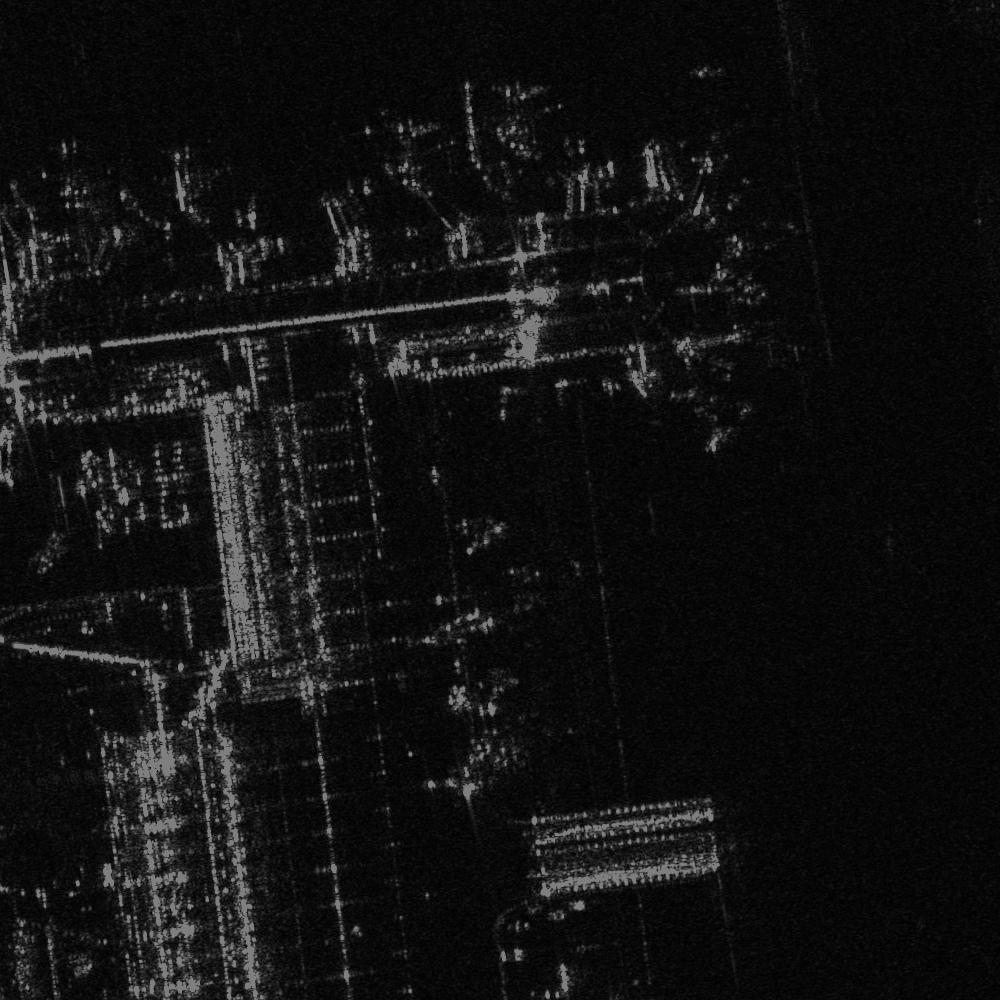A220: (40, 136, 111, 210), (146, 143, 218, 212), (379, 101, 441, 157), (486, 67, 545, 116)
